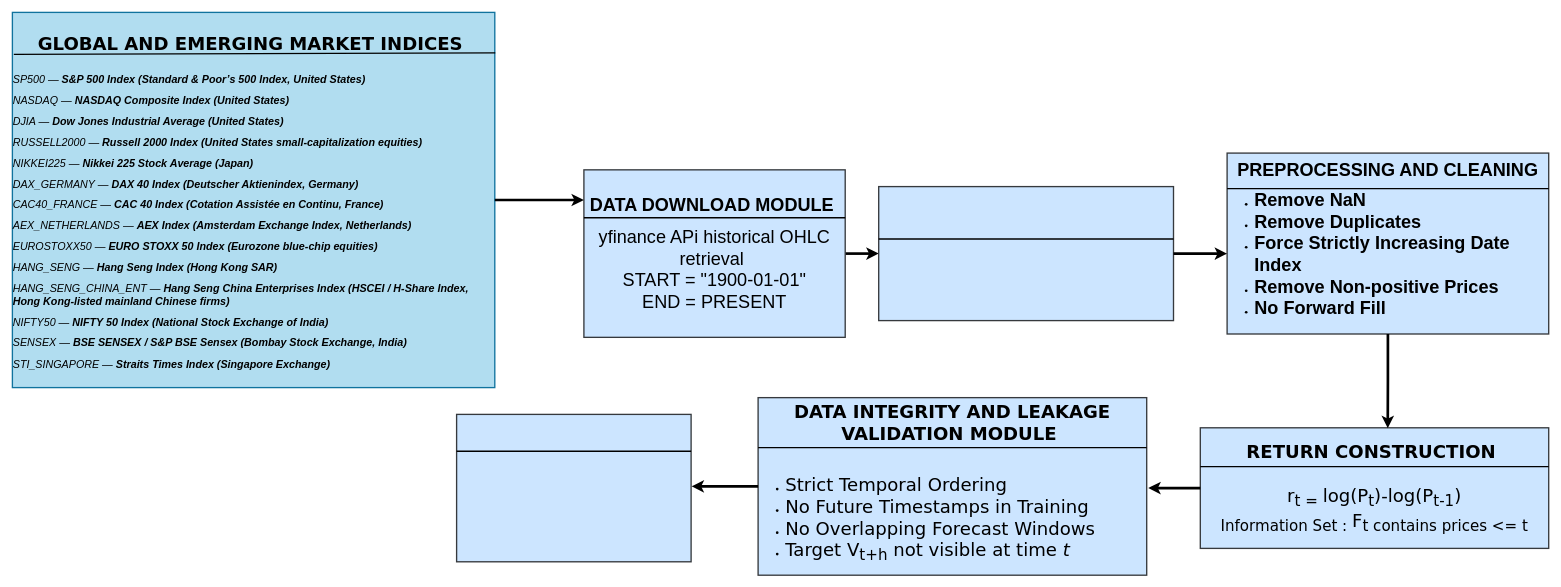
This 1561x587 diagram has some shape labels left out. Here are the shapes that lost their labels. From the top down, the centre of each, then its label:
the point at 1026,253: RAW PRICE (per index) DATE| OPEN | HIGH | LOW | CLOSE (stored as CSV)
the point at 573,487: MODELING DATASET Time Ordered Panel Returns r t OHLC Variables
